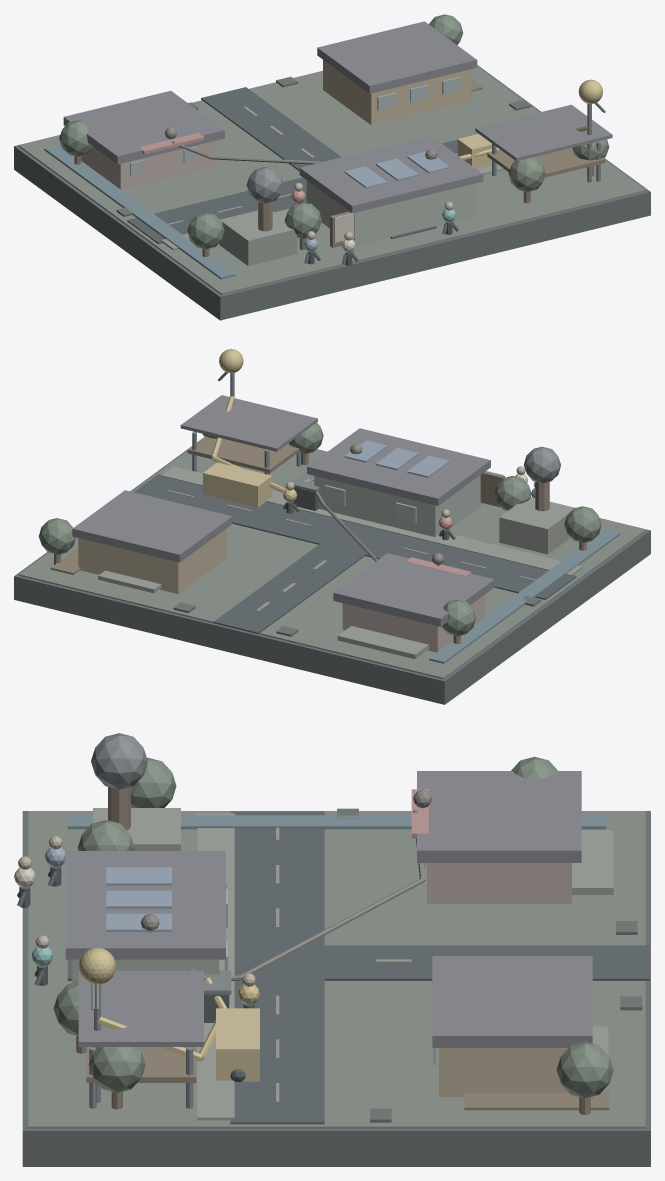
The model's file is yudae_e_shuttle_open.glb.
The picture shows the model from 3 angles, top to bottom: view 1: azimuth 30°, elevation 25°; view 2: azimuth 150°, elevation 25°; view 3: azimuth 270°, elevation 25°; orthographic projection. The views are drawn at different scales.
Visible parts, largest first — view 1: g0001, g0000, g0037, g0043, g0031, g0042, g0003, g0054, g0036, g0030, g0061, g0016 (+16 smaller); view 2: g0001, g0000, g0002, g0037, g0043, g0031, g0003, g0036, g0042, g0054, g0015, g0061 (+15 smaller); view 3: g0001, g0000, g0002, g0037, g0031, g0043, g0003, g0054, g0030, g0036, g0015, g0016 (+19 smaller).
Boxes of the visible parts, bbox=[...] form: g0001: bbox=[19, 66, 645, 294]; g0000: bbox=[14, 65, 650, 320]; g0037: bbox=[317, 21, 477, 93]; g0043: bbox=[299, 135, 483, 213]; g0031: bbox=[63, 90, 224, 164]; g0042: bbox=[306, 180, 476, 246]; g0003: bbox=[201, 87, 436, 239]; g0054: bbox=[475, 104, 612, 161]; g0036: bbox=[323, 60, 471, 125]; g0030: bbox=[81, 140, 215, 190]; g0061: bbox=[219, 210, 296, 265]; g0016: bbox=[44, 144, 235, 279]; g0001: bbox=[19, 449, 645, 679]; g0000: bbox=[14, 437, 650, 704]; g0002: bbox=[133, 474, 576, 599]; g0037: bbox=[72, 490, 232, 562]; g0043: bbox=[307, 428, 490, 505]; g0031: bbox=[333, 553, 494, 626]; g0003: bbox=[213, 522, 394, 634]; g0036: bbox=[78, 528, 226, 593]; g0042: bbox=[314, 475, 483, 537]; g0054: bbox=[180, 395, 317, 451]; g0015: bbox=[161, 466, 582, 575]; g0061: bbox=[499, 497, 575, 554]; g0001: bbox=[28, 811, 645, 1128]; g0000: bbox=[22, 811, 650, 1166]; g0002: bbox=[230, 811, 324, 1124]; g0037: bbox=[432, 956, 592, 1047]; g0031: bbox=[417, 771, 581, 862]; g0043: bbox=[65, 851, 225, 959]; g0003: bbox=[67, 945, 649, 980]; g0054: bbox=[78, 970, 203, 1046]; g0030: bbox=[427, 863, 571, 903]; g0036: bbox=[439, 1048, 568, 1096]; g0015: bbox=[197, 813, 234, 1120]; g0016: bbox=[67, 815, 605, 829].
Bounding box in the file's own units: 3.45 × 0.96 × 2.9.
